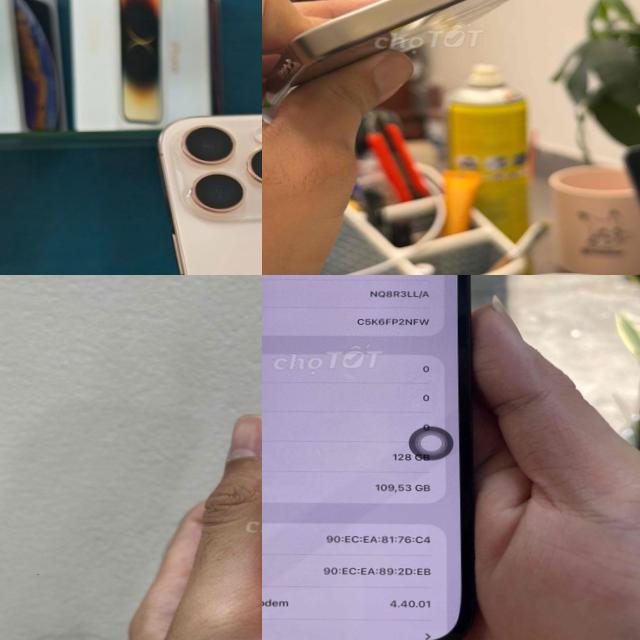gen_14: (262, 275, 483, 640)
gen_15: (262, 0, 602, 109)
gen_16: (159, 114, 262, 275)
